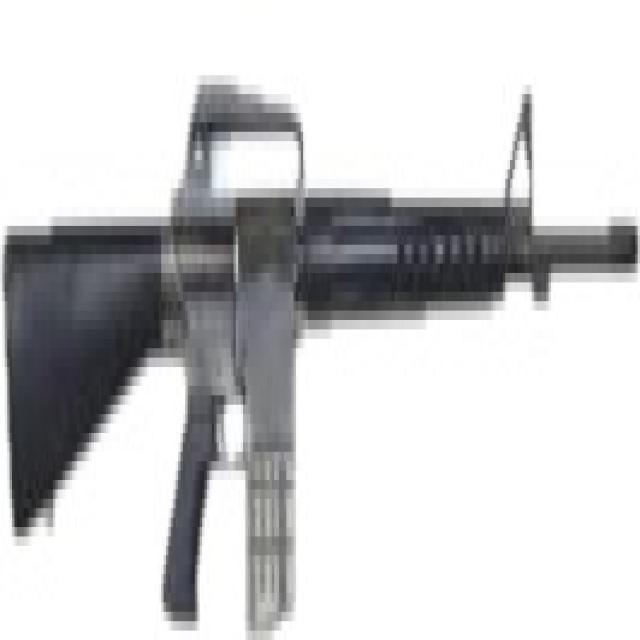rifle: (1, 42, 640, 640)
